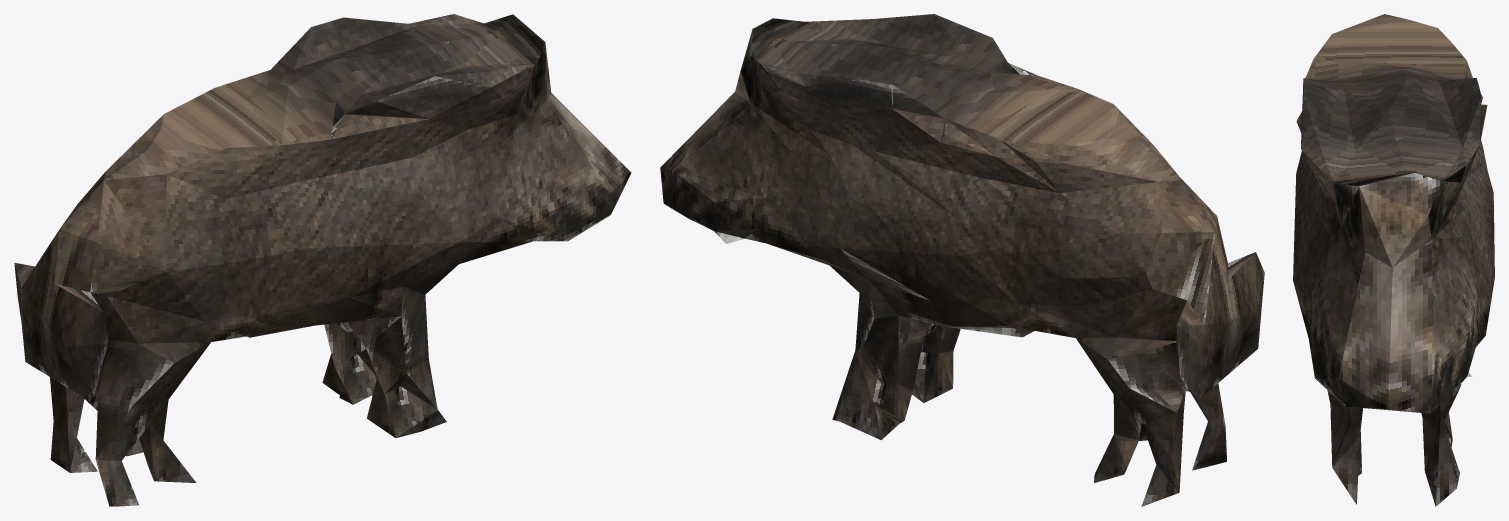
File: animal.salvaje.jabali.glb
3 views of the same model, side by side, from view 1: azimuth 30°, elevation 25°; view 2: azimuth 150°, elevation 25°; view 3: azimuth 270°, elevation 25° (orthographic). The views are drawn at different scales.
Parts seen in each view (by area): view 1: animal.salvaje.jabali; view 2: animal.salvaje.jabali; view 3: animal.salvaje.jabali.
Part boxes in pixels (x1,y1,x2,y2): animal.salvaje.jabali: [14, 14, 631, 506]; animal.salvaje.jabali: [660, 14, 1264, 506]; animal.salvaje.jabali: [1293, 14, 1494, 506].
Bounding box in the file's own units: 1.4 × 0.8548 × 0.4021.
Materials: 1 (1 with a texture image).
